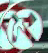Don't turn right: (0, 1, 43, 51)
